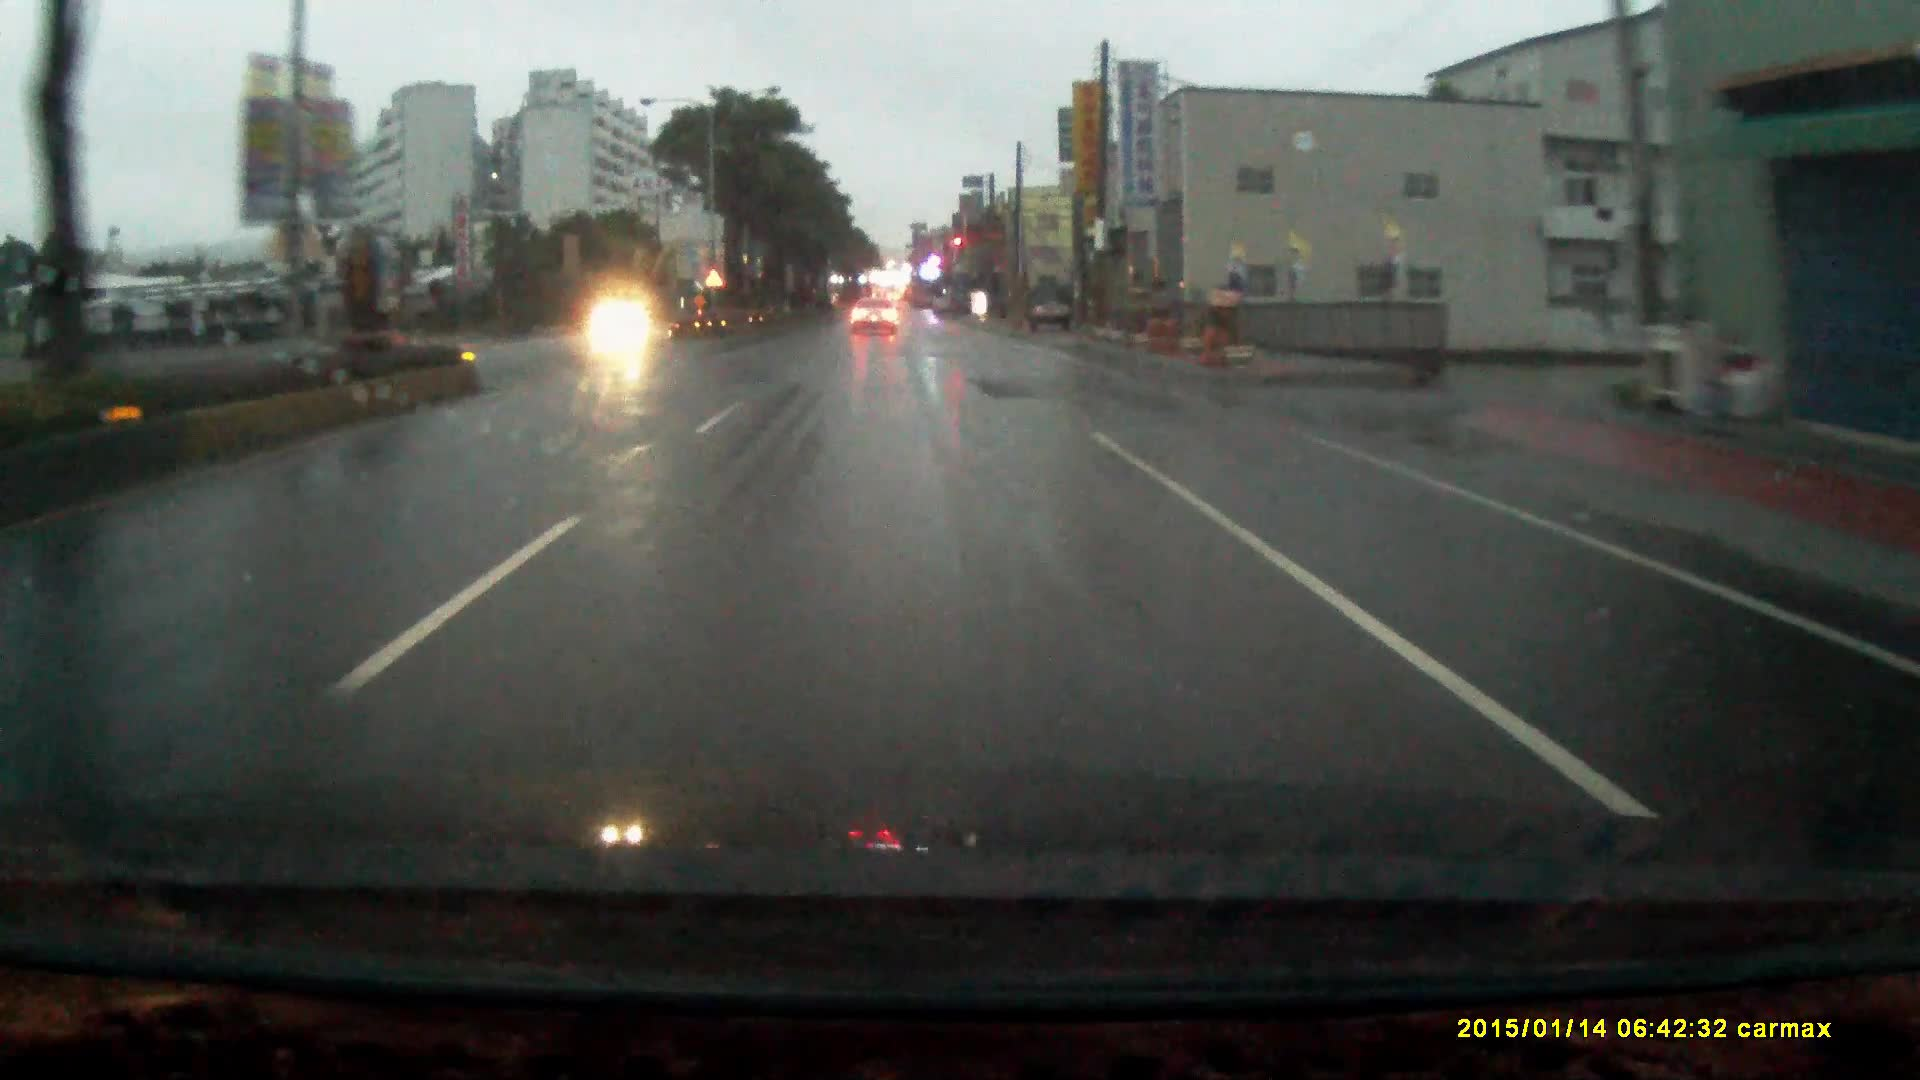vehicle: (847, 298, 899, 336), (1030, 287, 1072, 335)
